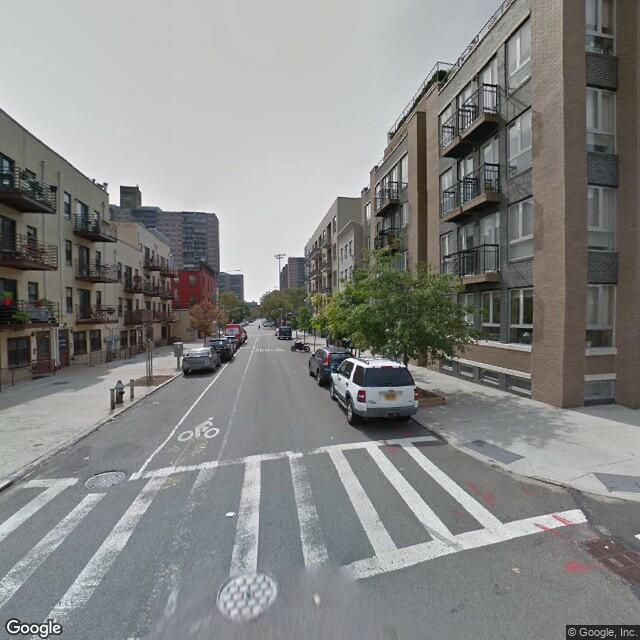litter: (223, 511, 238, 521), (150, 399, 166, 406), (83, 456, 93, 461), (604, 546, 611, 553)
